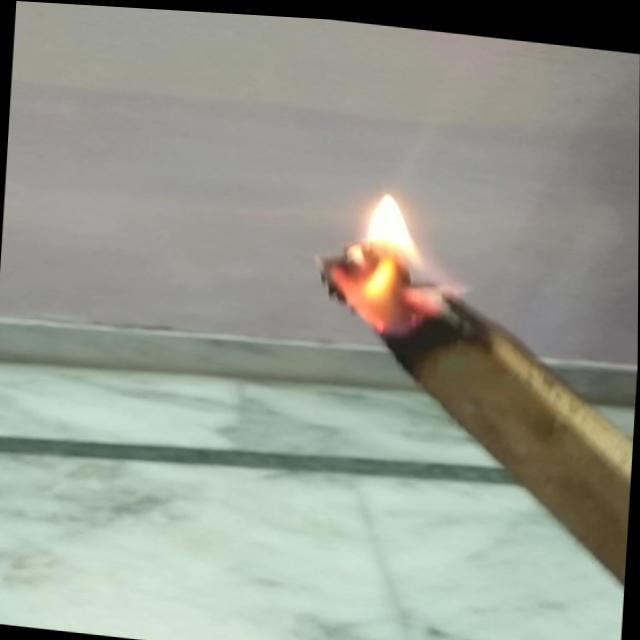fire: (310, 174, 464, 341)
